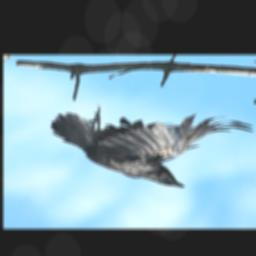Crow: (53, 104, 256, 190)
